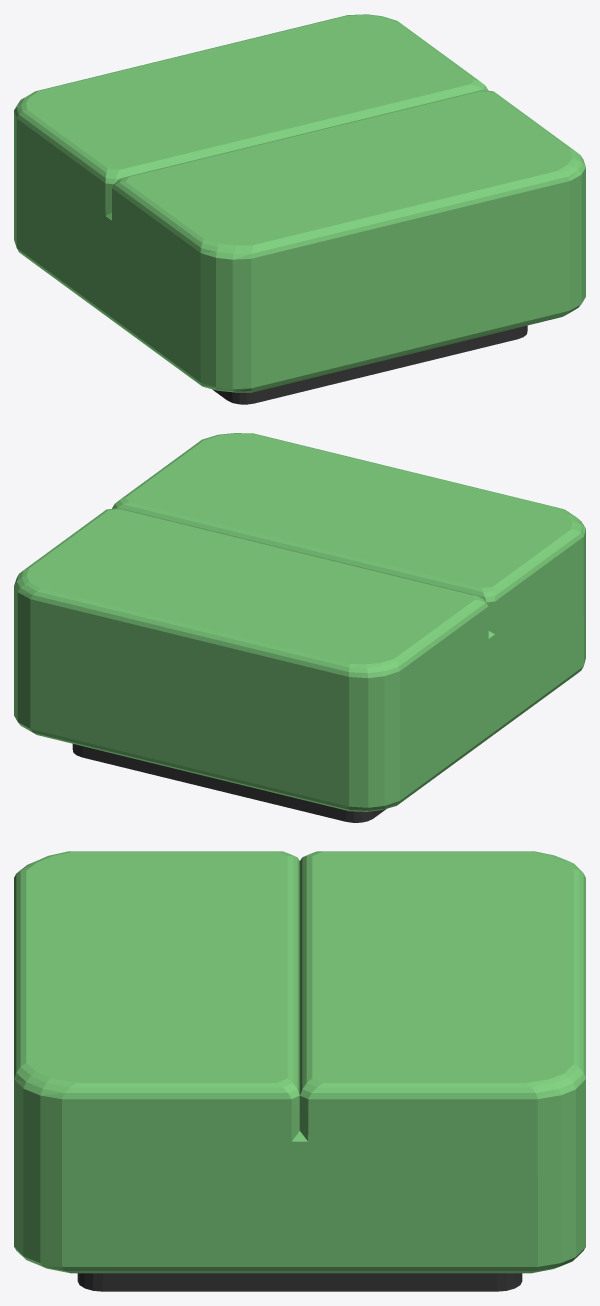
The model's file is movie-nelio-kuutio.fbx.
3 views of the same model, one above another, from view 1: azimuth 30°, elevation 25°; view 2: azimuth 150°, elevation 25°; view 3: azimuth 270°, elevation 25° (orthographic). The views are drawn at different scales.
Parts seen in each view (by area): view 1: Group2, Group1; view 2: Group2, Group1; view 3: Group2, Group1.
Boxes of the visible parts, x1,y1,x2,y2 form: Group2: (14, 14, 585, 392); Group1: (212, 325, 527, 404); Group2: (14, 433, 585, 811); Group1: (72, 744, 385, 822); Group2: (14, 851, 585, 1273); Group1: (77, 1273, 522, 1291).
Bounding box in the file's own units: 900 × 400 × 900.
